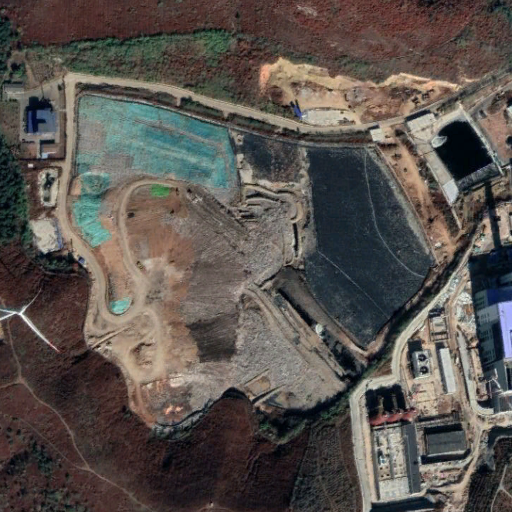lf: (63, 77, 426, 425)
